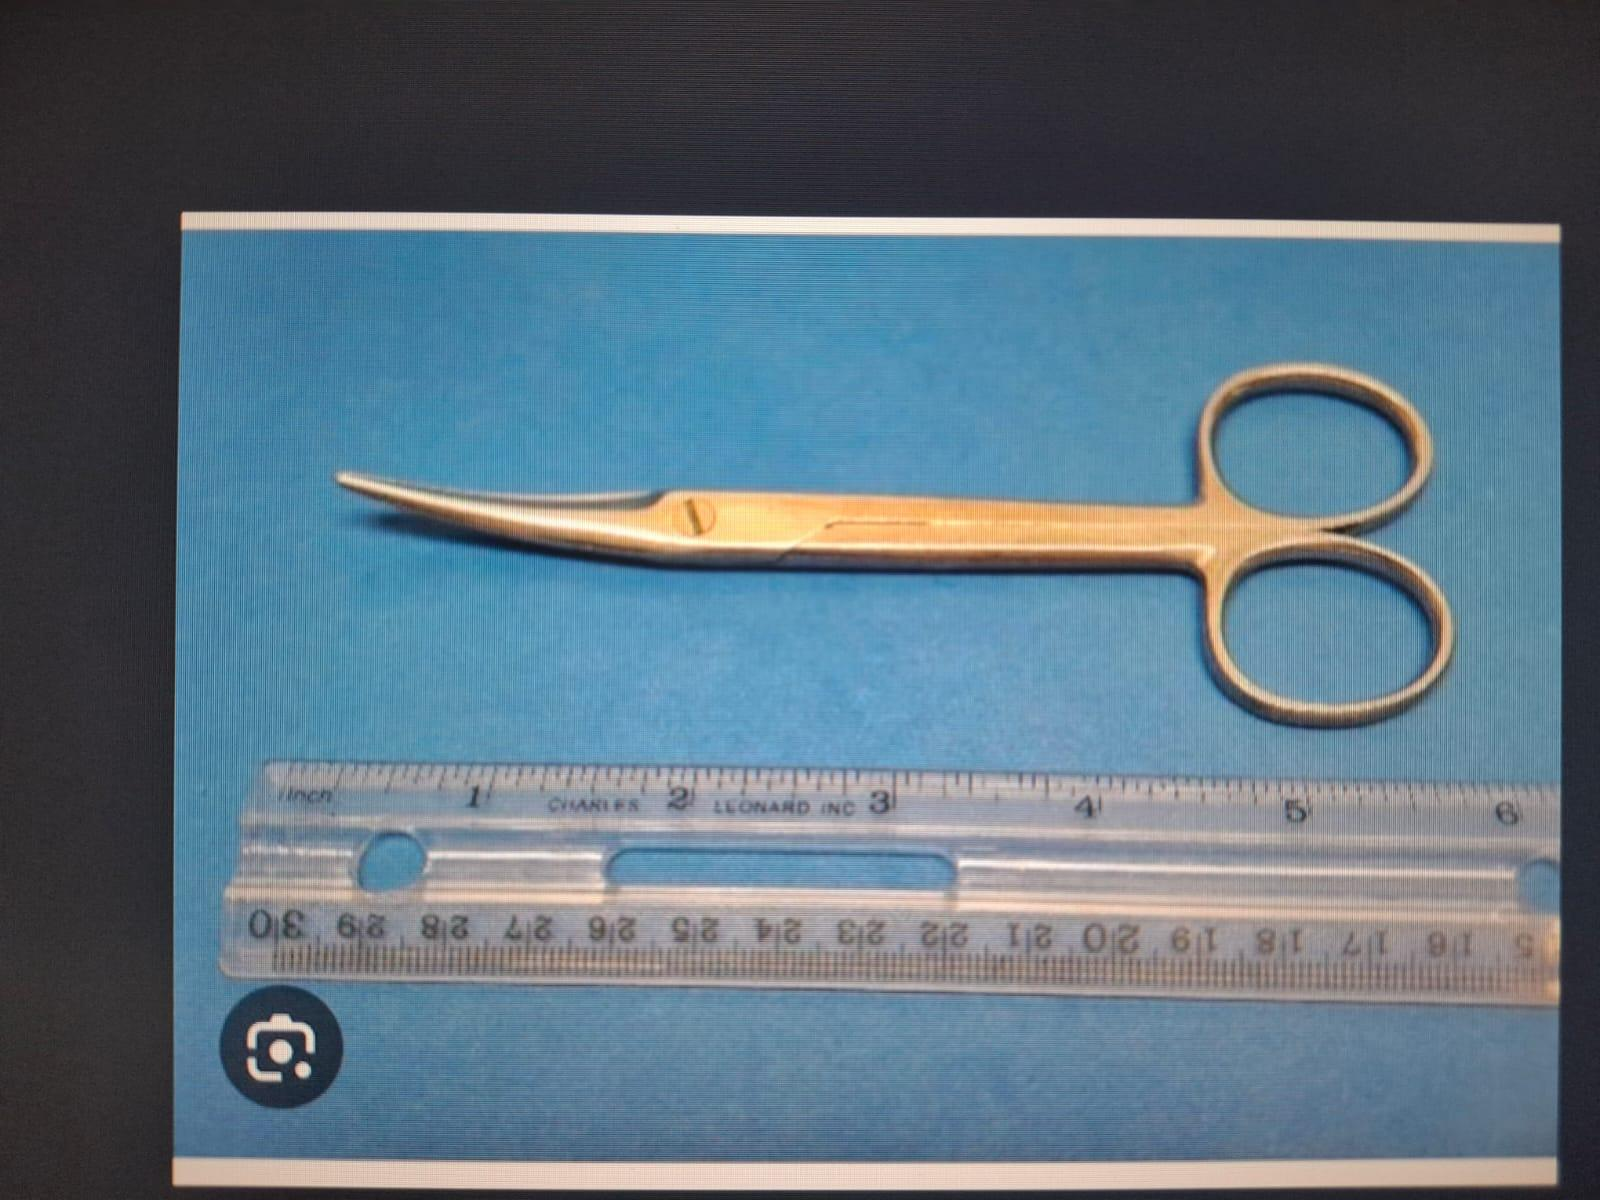Curved Mayo: (310, 350, 1474, 744)
